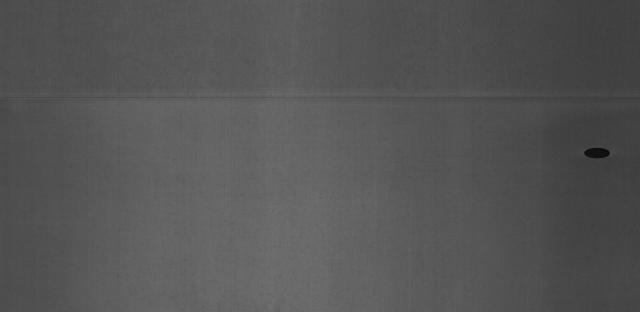punching_hole: (581, 143, 612, 163)
welding_line: (9, 80, 636, 113)
